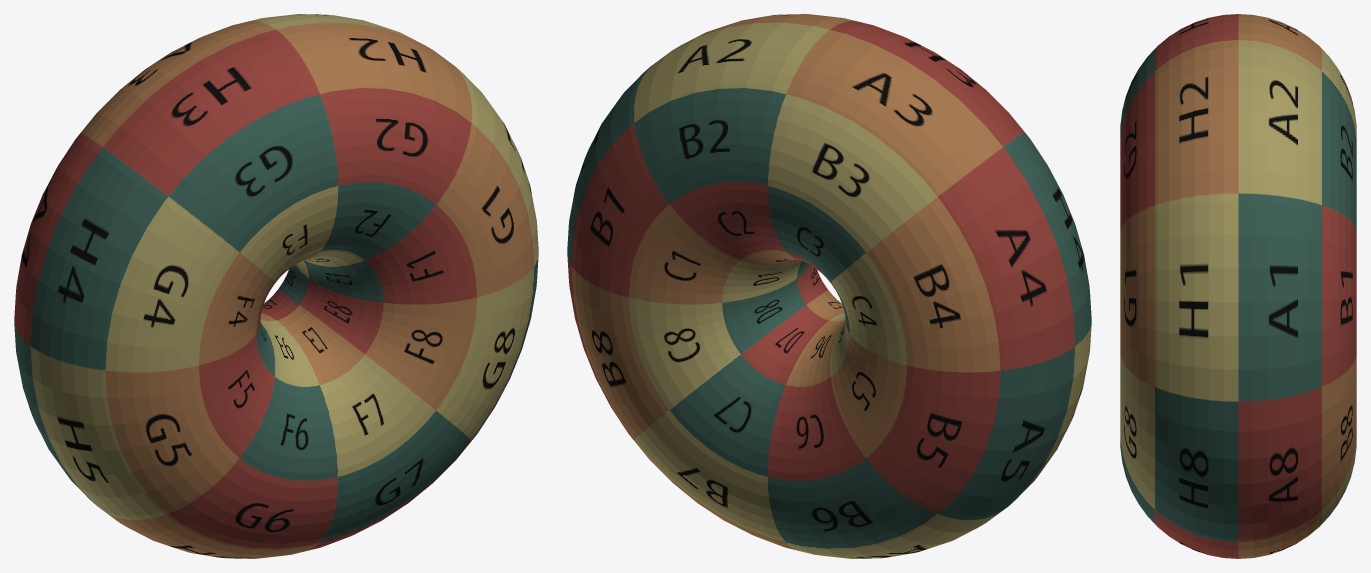
File: texture_torus_R3_r27.glb
3 views of the same model, side by side, from view 1: azimuth 30°, elevation 25°; view 2: azimuth 150°, elevation 25°; view 3: azimuth 270°, elevation 25° (orthographic). The views are drawn at different scales.
Visible parts, largest first — view 1: world; view 2: world; view 3: world.
Part boxes in pixels (left/top/right/bottom): world: left=14, top=14, right=538, bottom=558; world: left=567, top=14, right=1091, bottom=558; world: left=1120, top=14, right=1356, bottom=558.
Bounding box in the file's own units: 21.2 × 21.16 × 9.18.
1 material, 1 textured.
